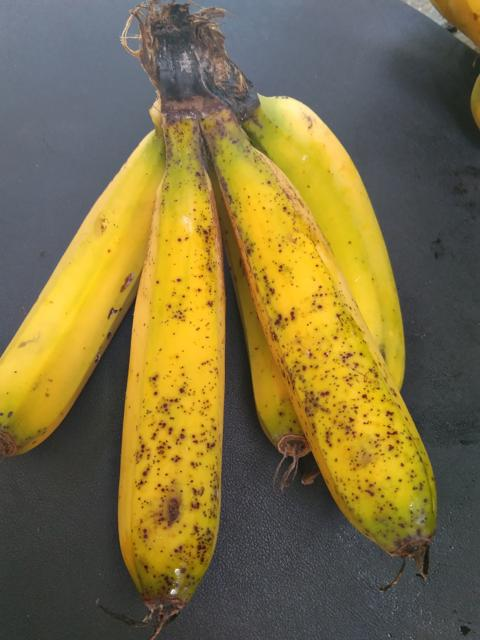ripe: (212, 108, 441, 570), (100, 148, 265, 625)
